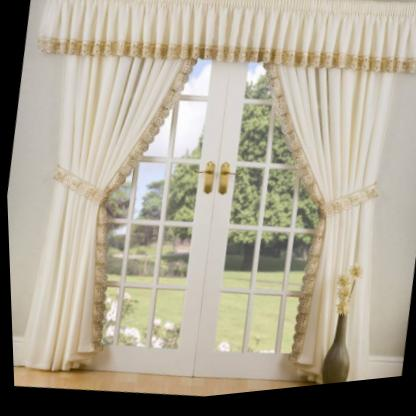Curtains: (18, 0, 416, 389)
